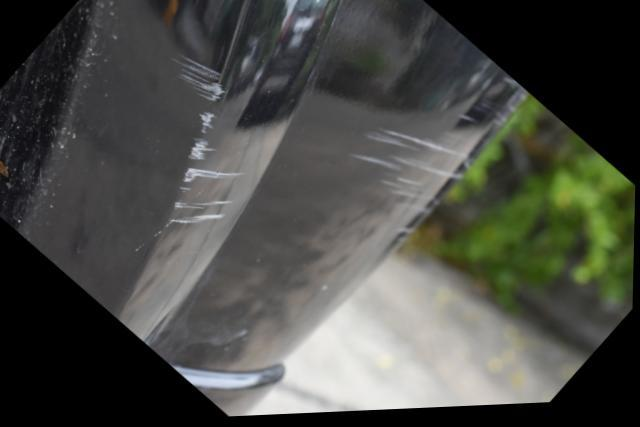scratch: (358, 80, 531, 251), (165, 49, 248, 228)
